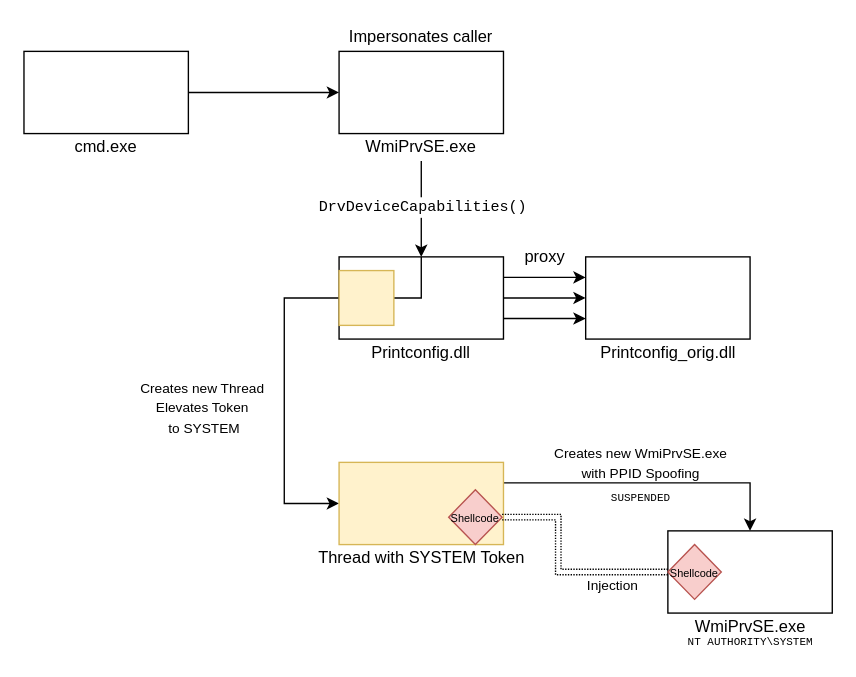
Some shapes in this 856 by 677 pixel diagram are drawn without their labels. Each missing label, with the box of its shape:
Payload: (338, 269, 394, 325)
wmic printer list: (23, 50, 188, 134)
